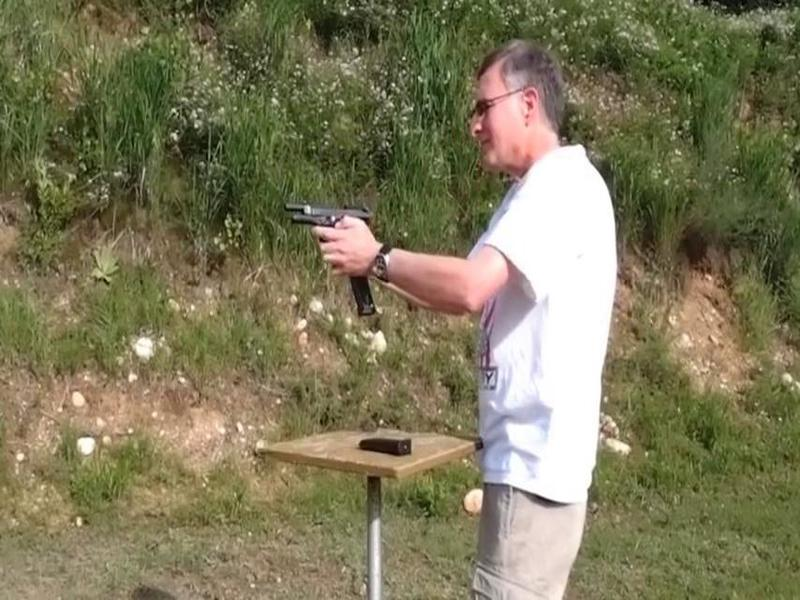Pistola: (270, 190, 375, 277)
